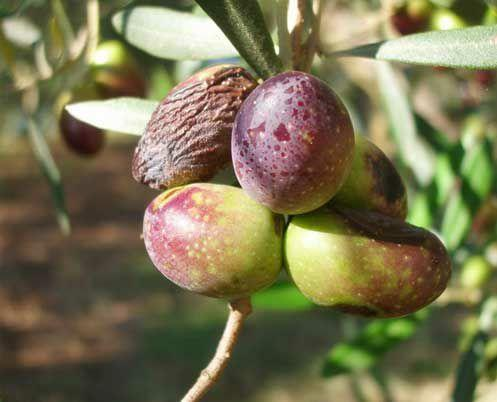Anthracnose: (130, 62, 260, 190), (356, 137, 409, 221)
